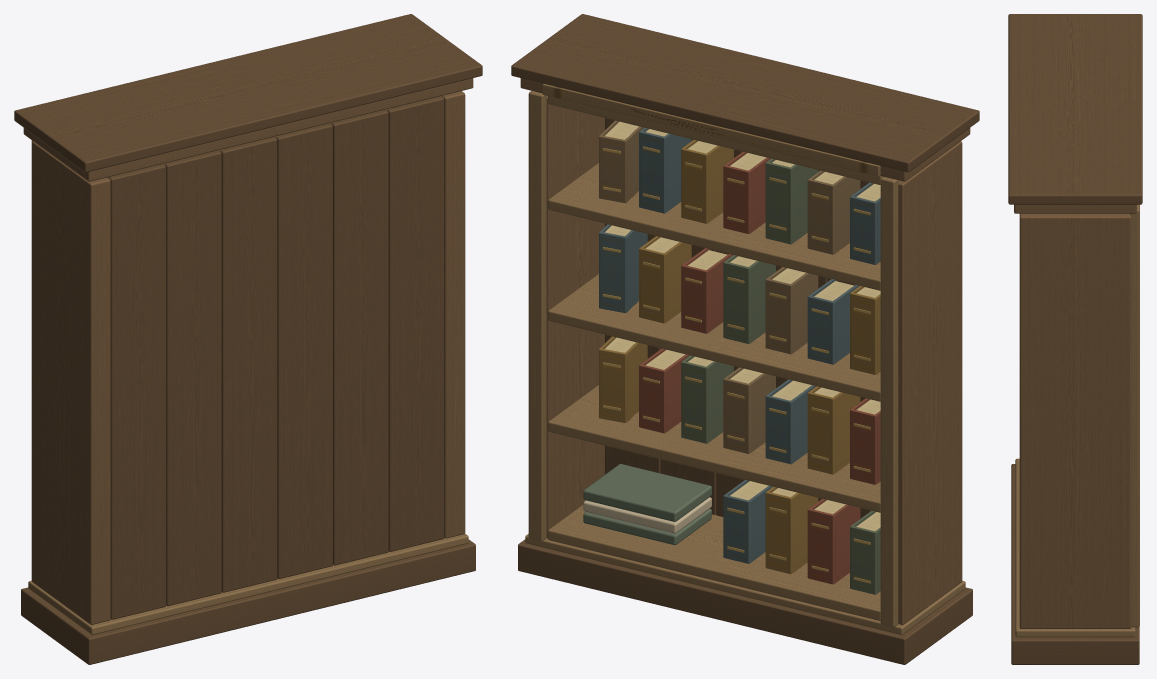
File: biblioteca.glb
3 views of the same model, side by side, from view 1: azimuth 30°, elevation 25°; view 2: azimuth 150°, elevation 25°; view 3: azimuth 270°, elevation 25° (orthographic). The views are drawn at different scales.
Visible parts, largest first — view 1: biblioteca; view 2: biblioteca; view 3: biblioteca.
Part boxes in pixels (x1,y1,x2,y2): biblioteca: (14, 14, 482, 664); biblioteca: (511, 14, 979, 664); biblioteca: (1008, 14, 1142, 664).
Bounding box in the file's own units: 1.54 × 1.87 × 0.48.
1 material, 1 textured.
